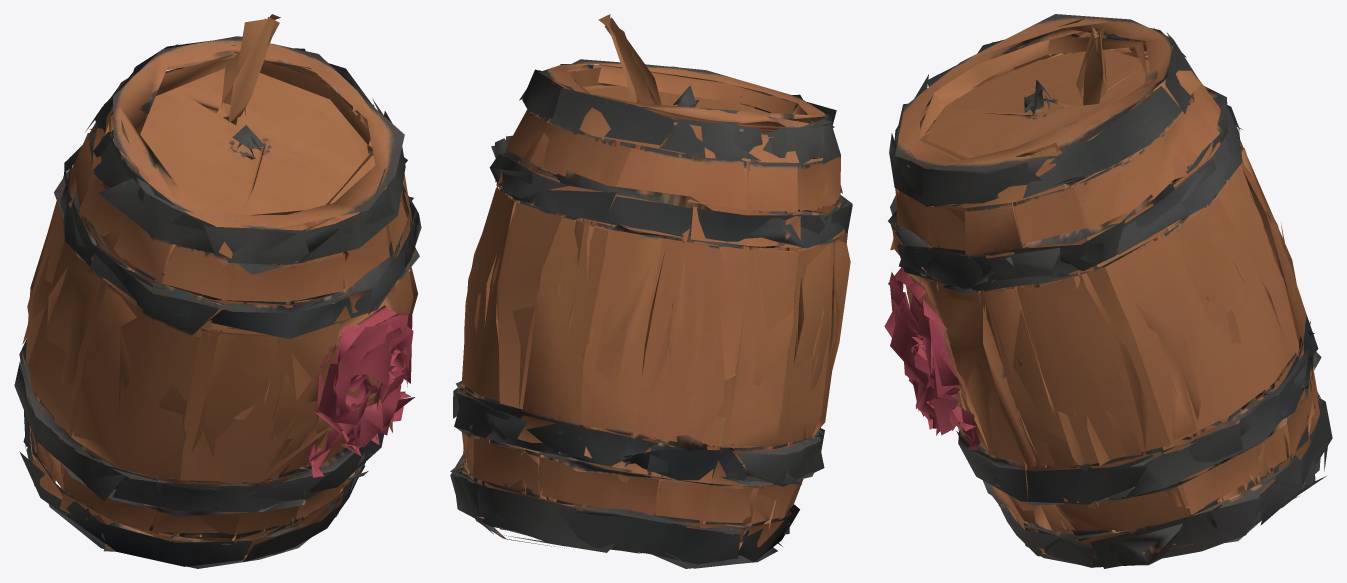
The model's file is keg.glb.
3 views of the same model, side by side, from view 1: azimuth 30°, elevation 25°; view 2: azimuth 150°, elevation 25°; view 3: azimuth 270°, elevation 25° (orthographic). The views are drawn at different scales.
Visible parts, largest first — view 1: Mesh_0; view 2: Mesh_0; view 3: Mesh_0.
Part boxes in pixels (bbox=[...]): Mesh_0: bbox=[14, 14, 421, 568]; Mesh_0: bbox=[450, 14, 852, 568]; Mesh_0: bbox=[884, 14, 1332, 568].
Size of the model in its own units: 0.6789 by 1 by 0.7736.
1 material, 1 textured.
